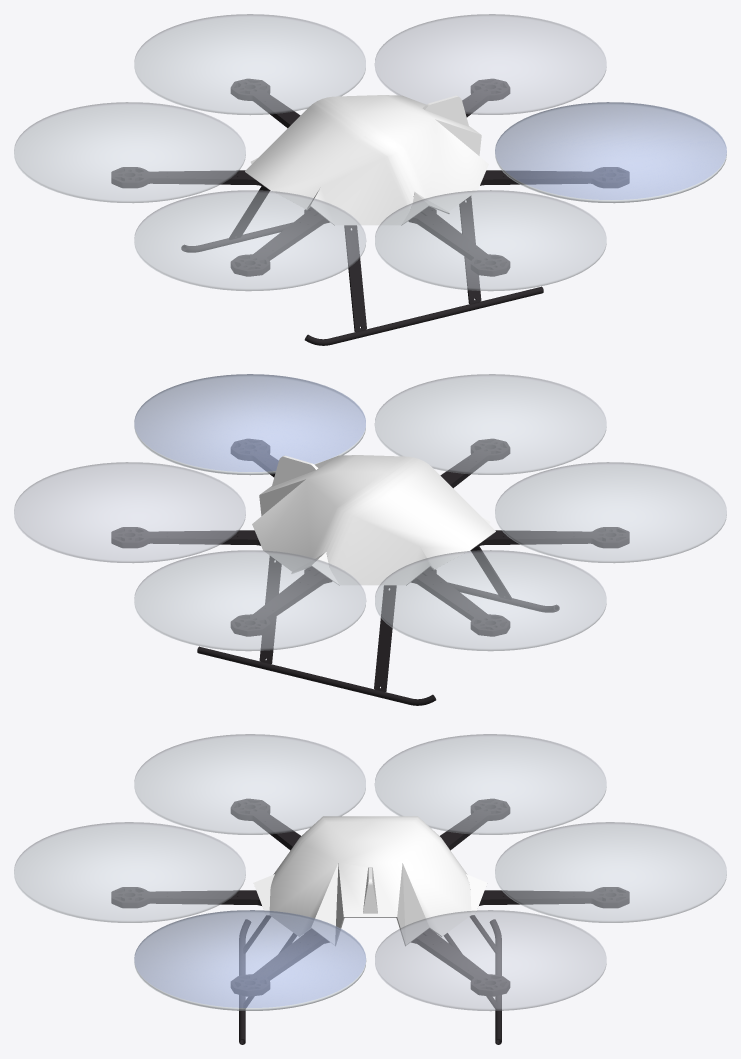
File: sfly-hex.dae
3 views of the same model, one above another, from view 1: azimuth 30°, elevation 25°; view 2: azimuth 150°, elevation 25°; view 3: azimuth 270°, elevation 25° (orthographic).
Parts seen in each view (by area): view 1: skpumMZCP (×26); view 2: skpumMZCP (×25); view 3: skpumMZCP (×22).
Boxes of the visible parts, left/top/right/bottom form: skpumMZCP (×26): left=14, top=14, right=726, bottom=345; skpumMZCP (×25): left=14, top=374, right=726, bottom=705; skpumMZCP (×22): left=14, top=734, right=726, bottom=1044.
Bounding box in the file's own units: 22922 × 25199 × 6374.
